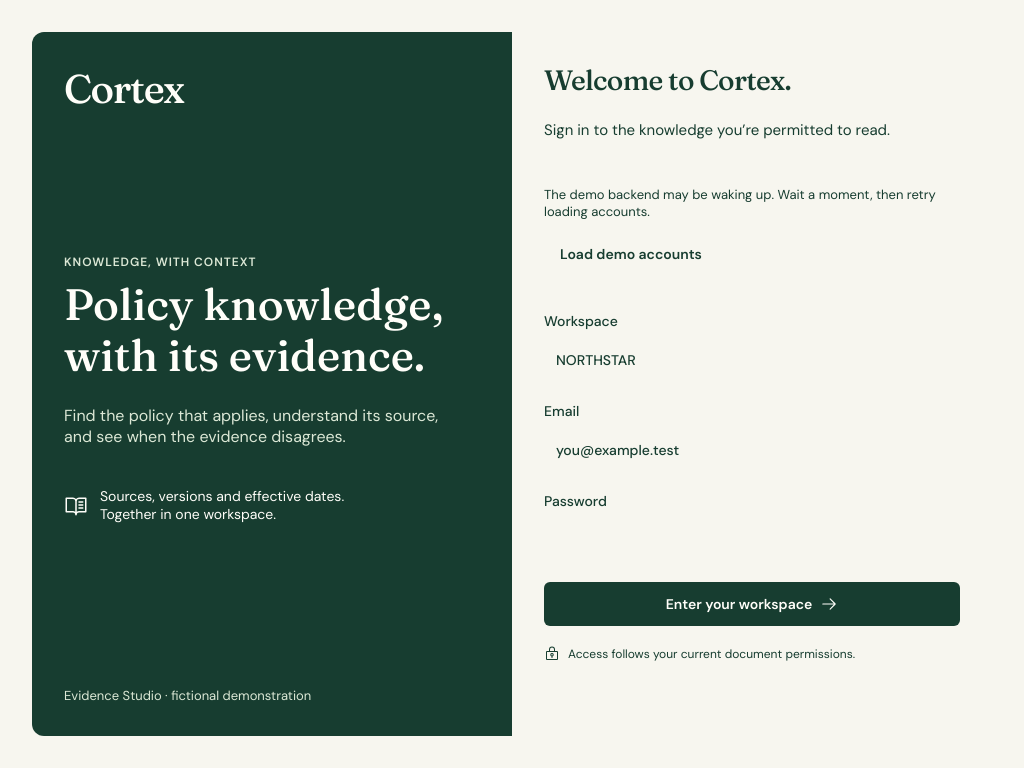
Test: cold backend shows an explicit profile retry, preserving manual login
This screenshot has width=1024, height=768.
What coordinates should you click on to do the following:
click the button "Load demo accounts"
I would click on:
 (631, 254)
Its box is [544,232,718,276].
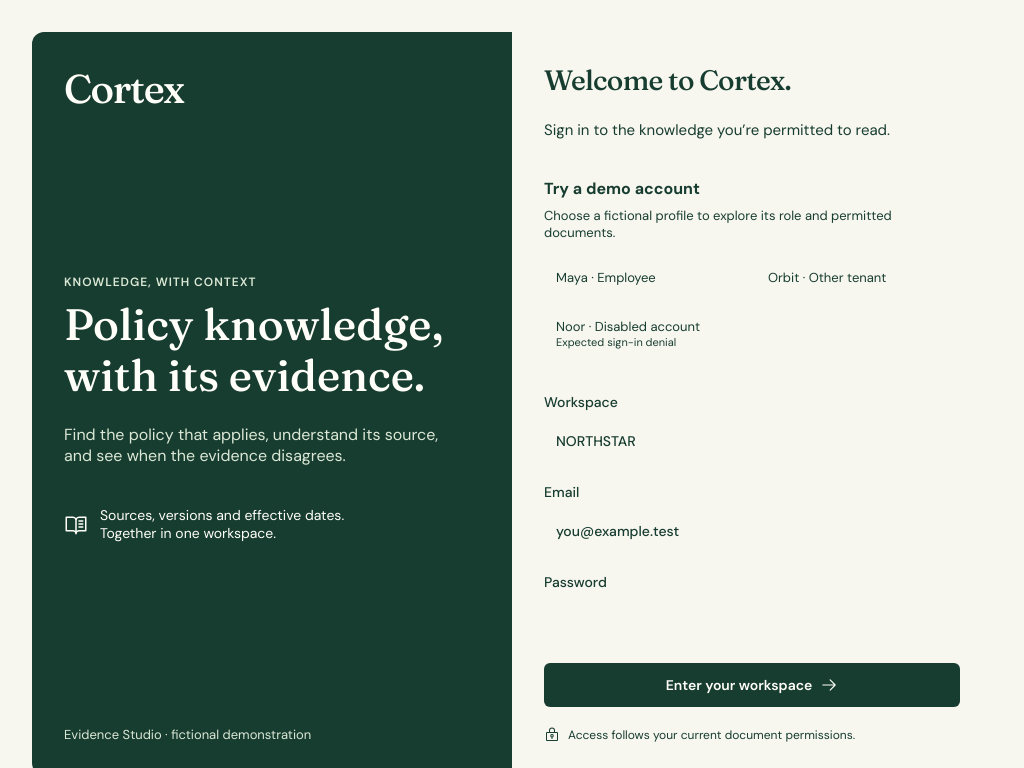
Now the button "Maya · Employee" is shown, box [544,253,748,301]
